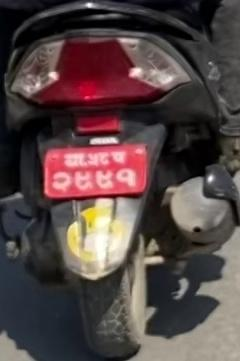license-plate: (37, 141, 158, 196)
